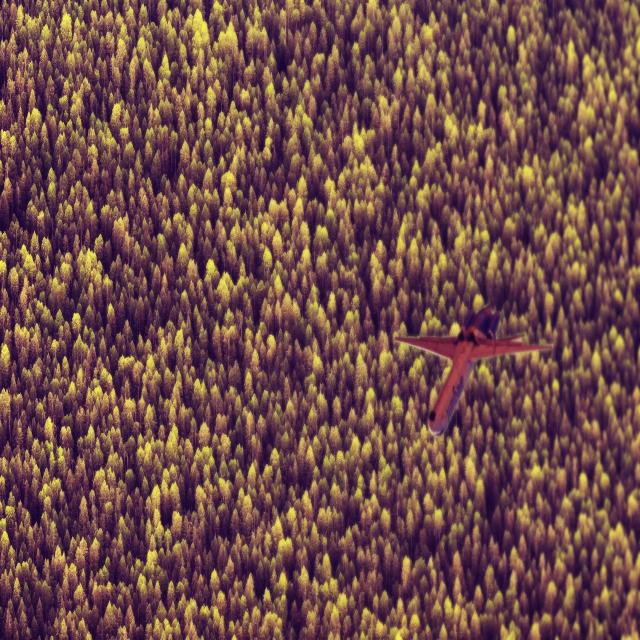airplane: (393, 301, 553, 437)
